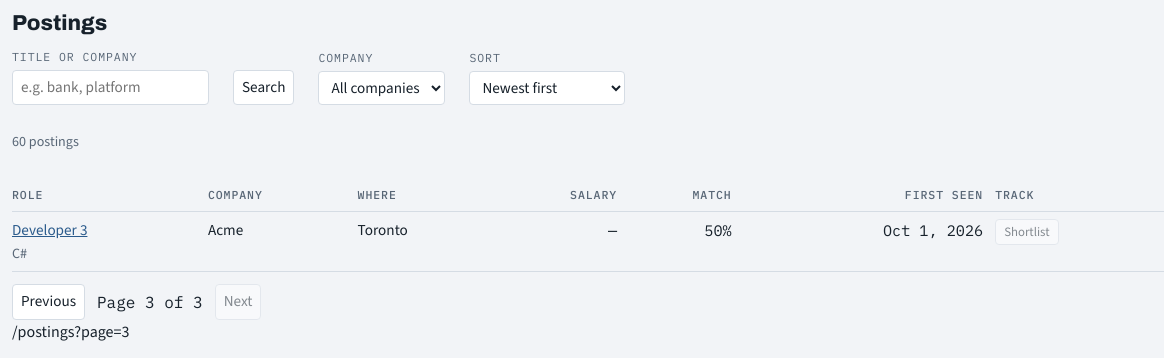
Scenario: Postings page › searches titles and companies and starts again from page 1
Expected: the text "Page 3 of 3" is shown, [97,290,203,314]
In the search field labelled "Title or company": (110, 87) [12,70,209,105], type "bank"
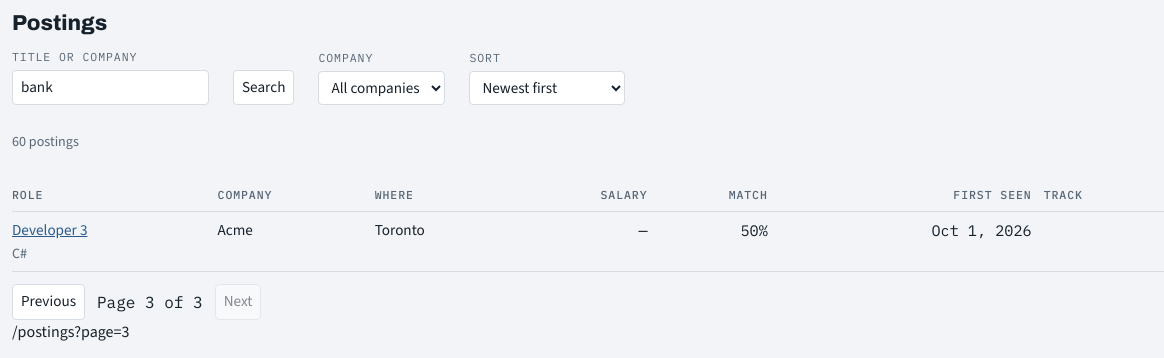
Click the button "Search": (264, 87) [233,70,294,105]
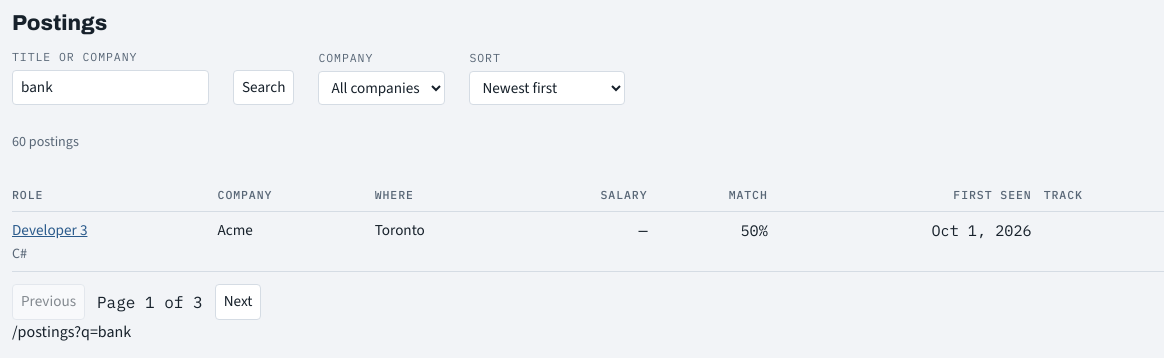
Expected: the text with test id "location" reads "/postings?q=bank", [12,321,131,342]
